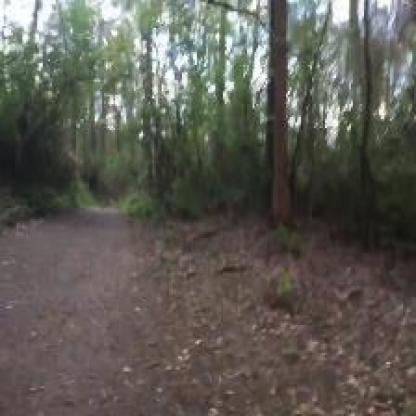other: (52, 51, 361, 134)
